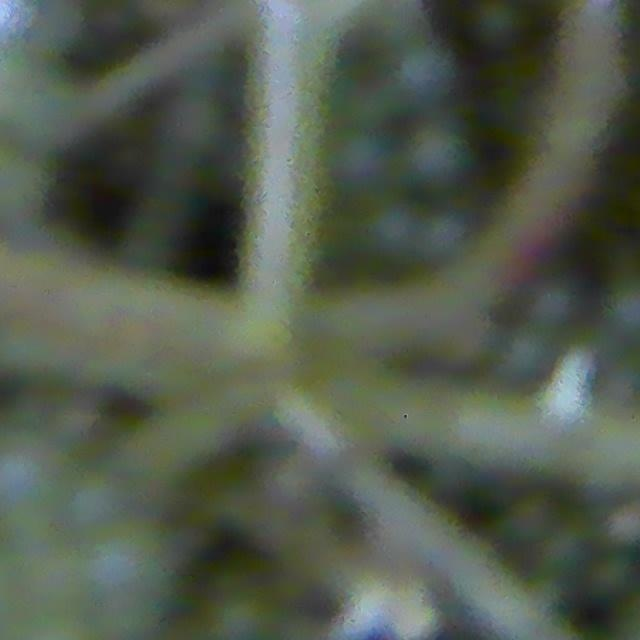SeaGrape: (403, 122, 471, 187), (393, 43, 460, 108), (92, 555, 159, 618), (327, 139, 390, 199), (522, 276, 585, 336), (0, 442, 55, 510), (68, 485, 122, 543), (490, 328, 549, 381), (469, 0, 525, 51)
